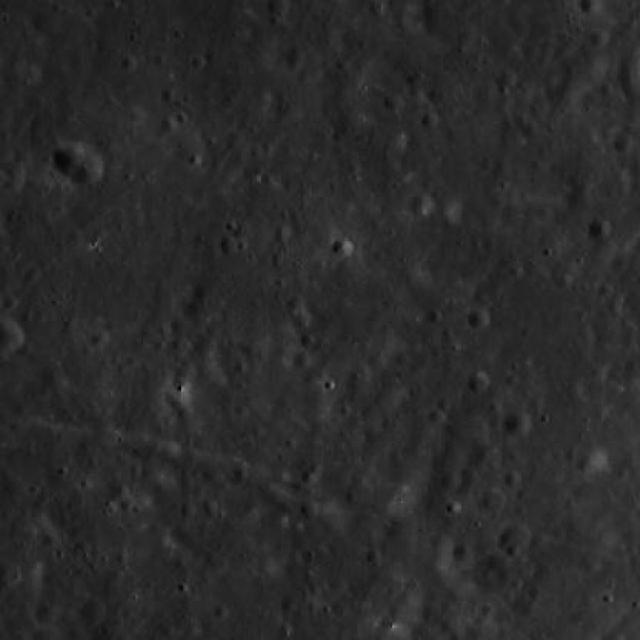crater: (68, 151, 104, 187), (497, 525, 532, 561), (51, 142, 85, 176), (502, 413, 532, 442), (160, 384, 188, 412), (33, 362, 61, 390), (0, 320, 20, 356), (448, 544, 474, 570), (478, 492, 504, 518), (80, 600, 106, 626), (32, 600, 57, 626), (0, 557, 18, 590), (411, 195, 434, 218), (490, 64, 513, 87), (166, 312, 188, 336), (466, 310, 488, 333), (466, 374, 488, 396), (588, 222, 610, 244), (86, 329, 108, 351), (572, 452, 594, 474), (172, 409, 194, 431), (279, 48, 301, 70), (578, 0, 602, 20), (107, 483, 127, 503), (383, 96, 403, 116), (436, 467, 456, 487), (276, 592, 296, 611), (584, 26, 604, 45), (266, 0, 287, 18), (218, 237, 237, 256), (299, 502, 318, 521), (330, 238, 350, 256), (166, 332, 186, 350), (0, 158, 18, 178), (613, 138, 632, 156), (420, 115, 438, 134), (228, 462, 247, 480), (40, 528, 58, 547), (248, 340, 266, 358), (10, 148, 28, 166), (624, 551, 640, 571), (502, 474, 520, 491), (272, 224, 290, 241), (293, 352, 310, 370), (300, 370, 317, 388), (22, 119, 40, 136), (154, 619, 171, 636), (530, 204, 547, 221), (428, 412, 444, 430), (167, 373, 184, 389), (172, 359, 188, 376), (486, 158, 502, 175), (505, 546, 521, 562), (292, 310, 308, 326), (551, 272, 567, 288), (158, 116, 174, 132), (363, 352, 379, 368), (0, 173, 14, 190), (230, 400, 246, 414), (62, 626, 78, 640)
